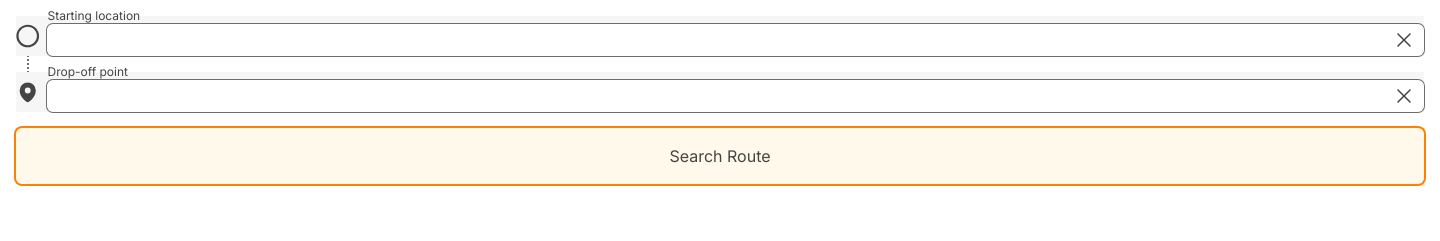
it: RouteCheckSide failed to get route token
Type "Hong" into the dropdown labelled "Starting location" at (736, 40), box [48, 24, 1424, 56]
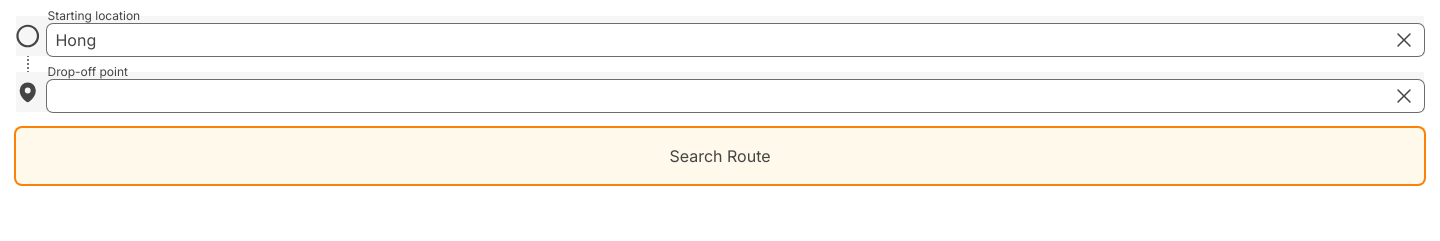
Type "Kong" into the dropdown labelled "Drop-off point" at (736, 96), box [48, 80, 1424, 112]
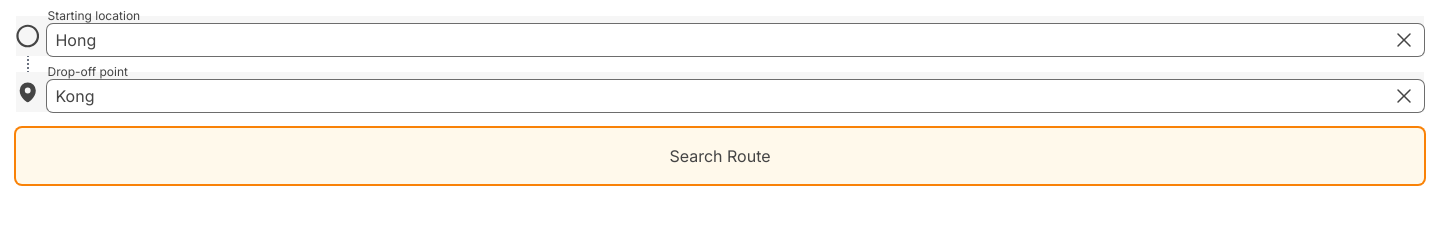
Click the button "Search Route" at (720, 156), box [16, 128, 1424, 184]
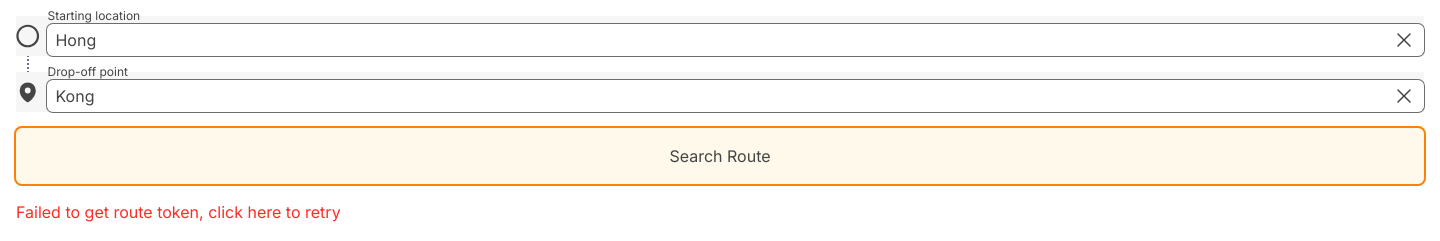
Now the message "Failed to get route token, click here to retry" is shown, box [16, 200, 341, 224]
Now the message shows "Failed to get route token", box [16, 202, 208, 222]
